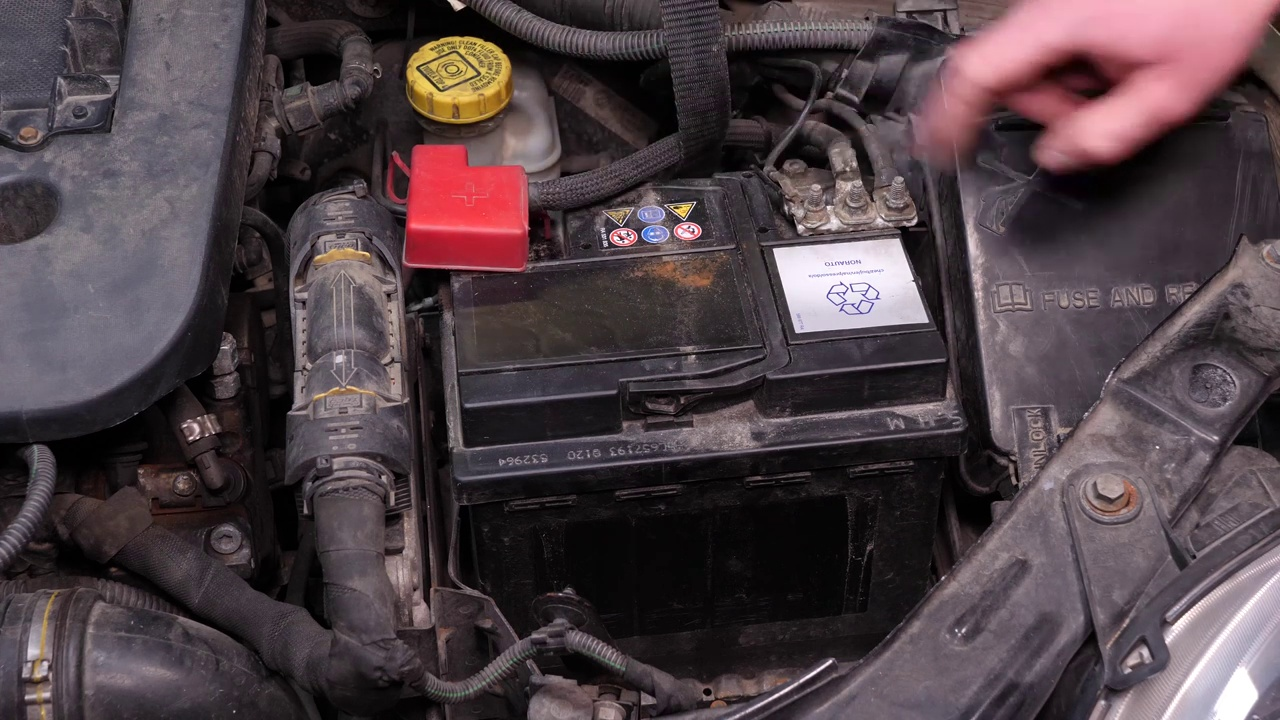battery: (385, 137, 945, 464)
neg_connected: (760, 121, 921, 263)
pos_connected: (384, 153, 548, 284)
